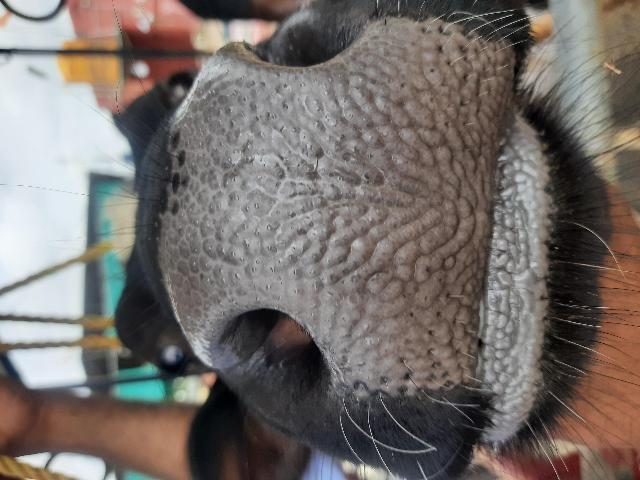Muzzle: (185, 79, 508, 327)
